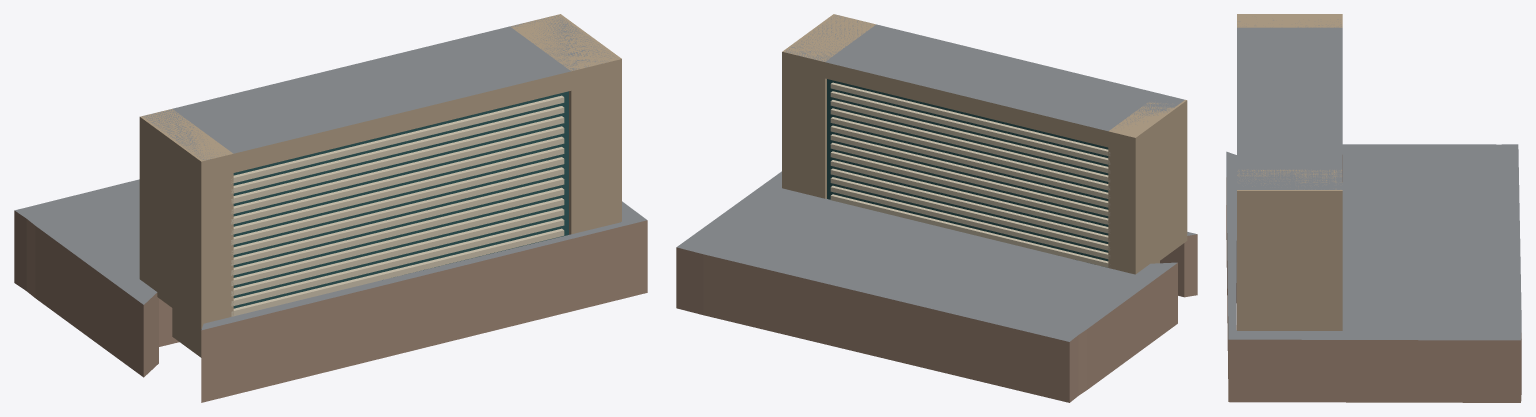
File: marriott_downtown_city_creek.glb
The picture shows the model from 3 angles, left to right: view 1: azimuth 30°, elevation 25°; view 2: azimuth 150°, elevation 25°; view 3: azimuth 270°, elevation 25°; orthographic projection. The views are drawn at different scales.
Parts seen in each view (by area): view 1: Marriott_Downtown_City_Creek; view 2: Marriott_Downtown_City_Creek; view 3: Marriott_Downtown_City_Creek.
Part boxes in pixels (x1,y1,x2,y2): Marriott_Downtown_City_Creek: [14, 14, 647, 402]; Marriott_Downtown_City_Creek: [676, 14, 1197, 402]; Marriott_Downtown_City_Creek: [1226, 14, 1521, 402].
Bounding box in the file's own units: 101 × 48.6 × 64.26.
